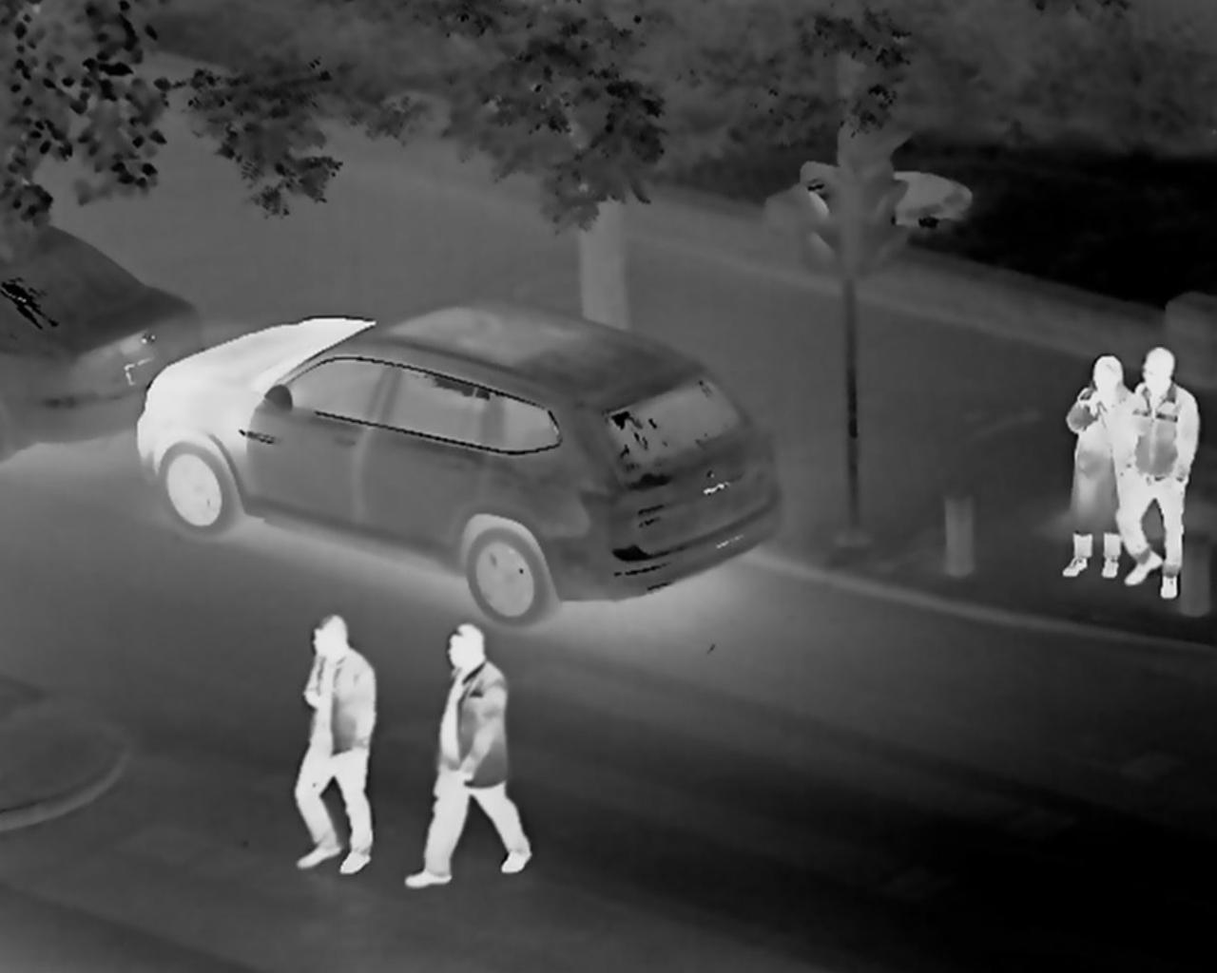person: (277, 601, 382, 889), (429, 623, 527, 916), (1129, 346, 1193, 604), (1055, 348, 1108, 572)
